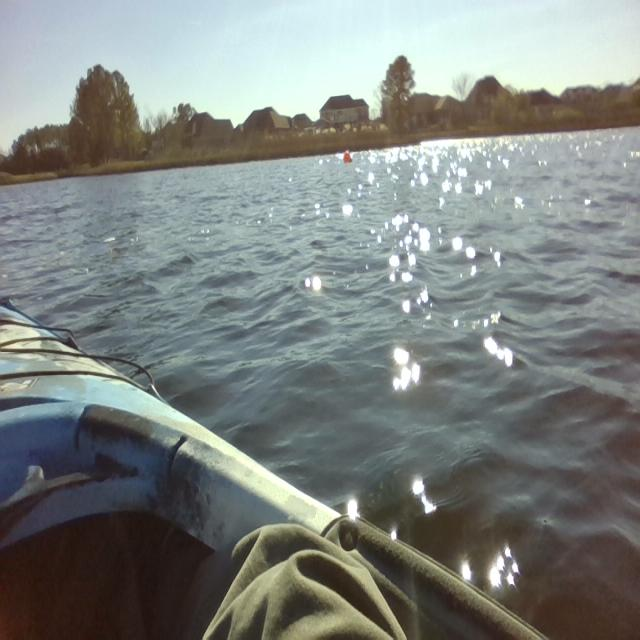Buoy: (338, 141, 357, 171)
